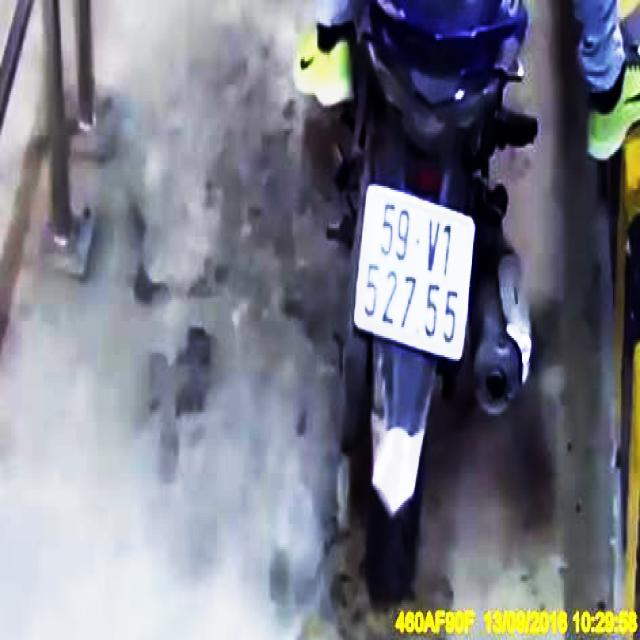license_plate: (354, 187, 475, 360)
